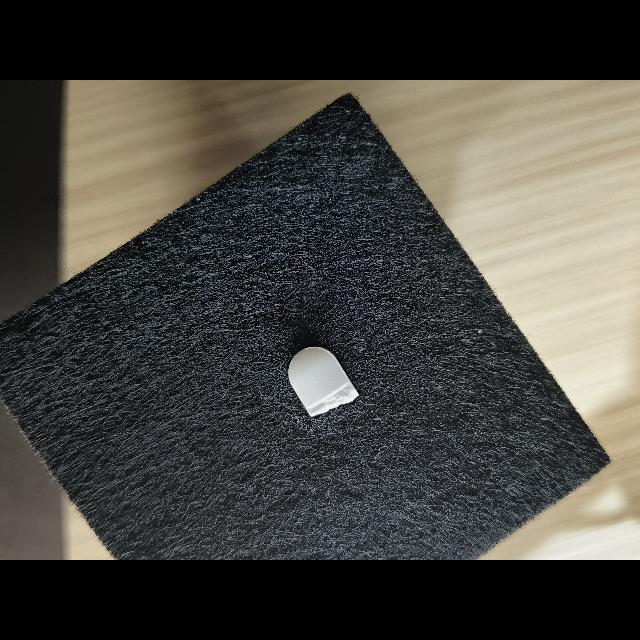Chipped Pill: (288, 346, 359, 416)
